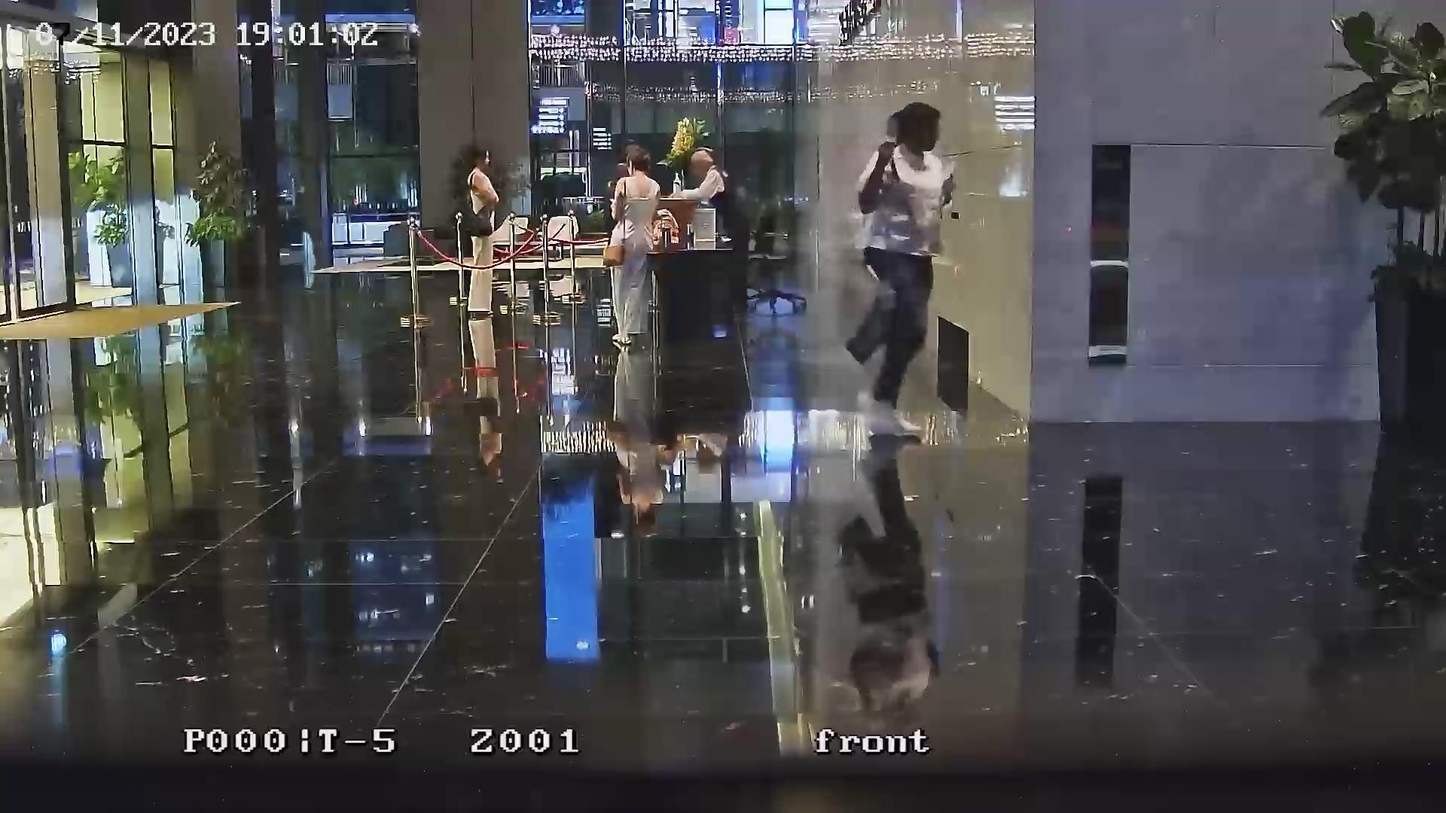person: (841, 100, 956, 438), (669, 148, 752, 314), (604, 144, 660, 346), (468, 150, 502, 317)
